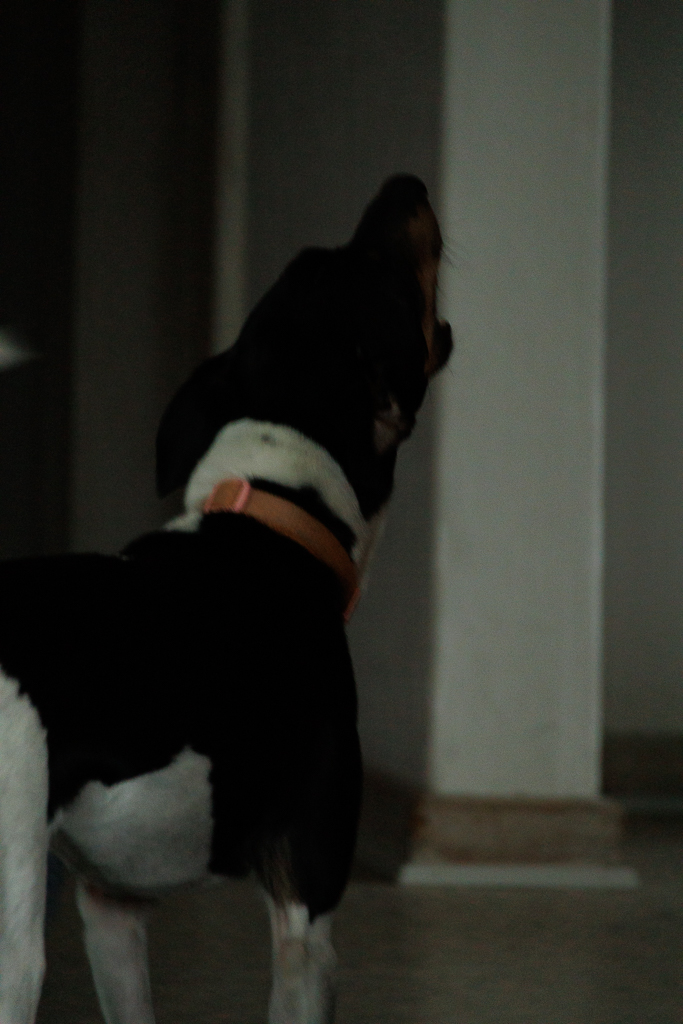Dog: (0, 156, 478, 1024)
